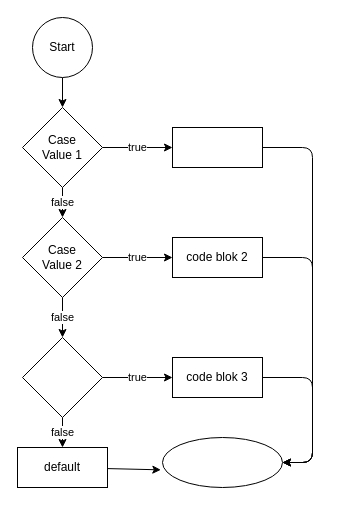
Image size: 338x505. Some labels were removed from this diagram. The centre of each missing label's shape, as x and y in pixels:
"Case Value 3" goes at (62,377).
"code blok 1" goes at (217,147).
"end" goes at (222,462).
